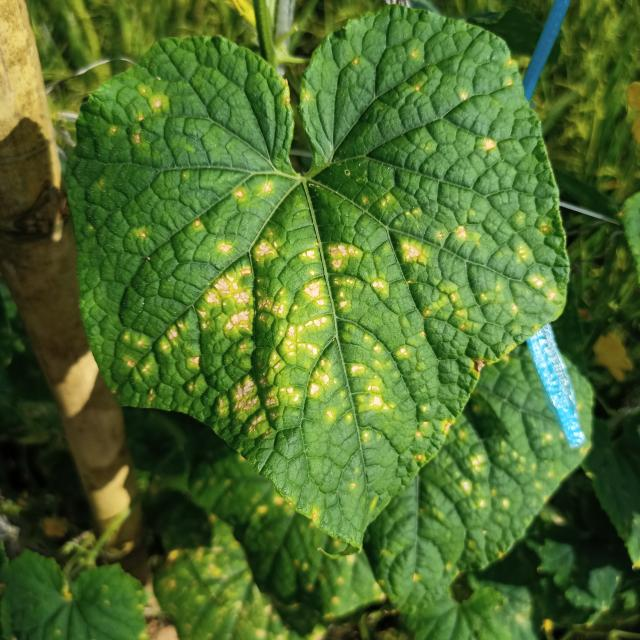disease_cucumber: (95, 47, 550, 509)
